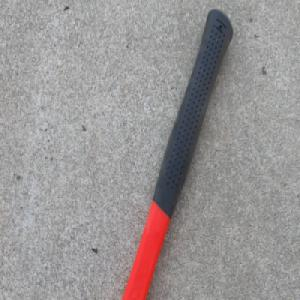Hammer: (122, 7, 234, 300)
